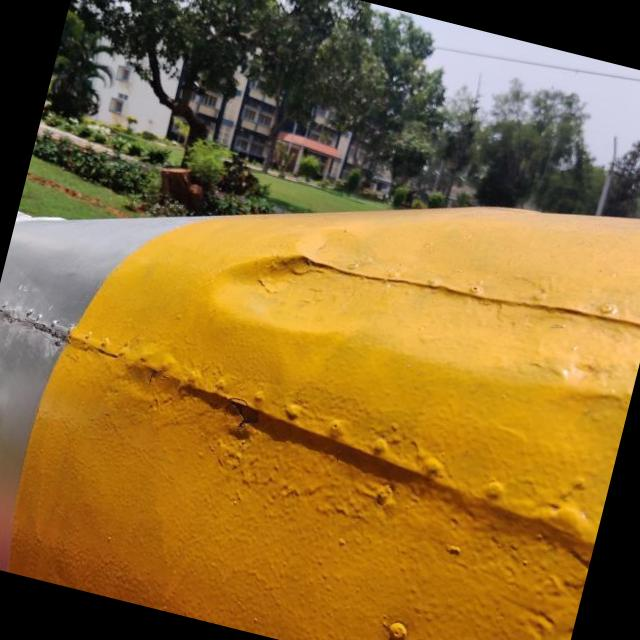Dent: (209, 255, 379, 340)
